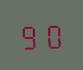nine: (19, 20, 40, 50)
zero: (41, 20, 62, 49)
